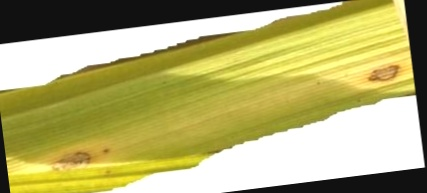Bacterial_Leaf_Blight: (42, 139, 126, 184), (355, 61, 410, 91)
